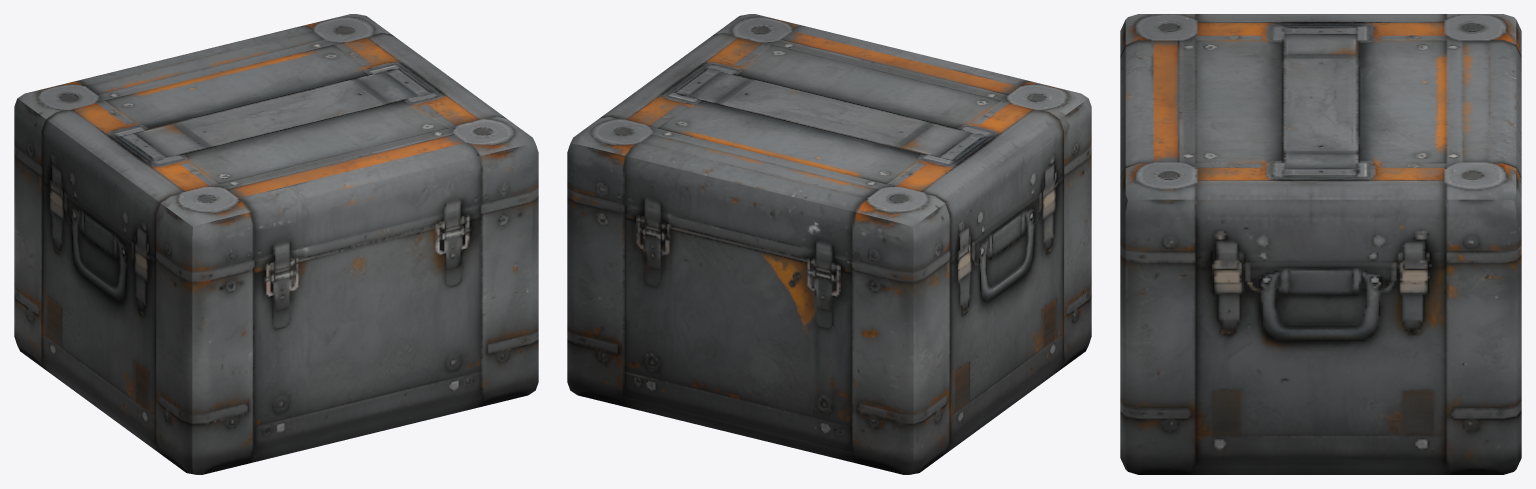
File: crate_lod0.glb
3 views of the same model, side by side, from view 1: azimuth 30°, elevation 25°; view 2: azimuth 150°, elevation 25°; view 3: azimuth 270°, elevation 25° (orthographic). The views are drawn at different scales.
Visible parts, largest first — view 1: low; view 2: low; view 3: low.
Boxes of the visible parts, left/top/right/bottom form: low: left=14, top=14, right=538, bottom=474; low: left=567, top=14, right=1091, bottom=474; low: left=1120, top=14, right=1521, bottom=474.
Size of the model in its own units: 1.27 by 0.8876 by 1.13.
1 material, 1 textured.
